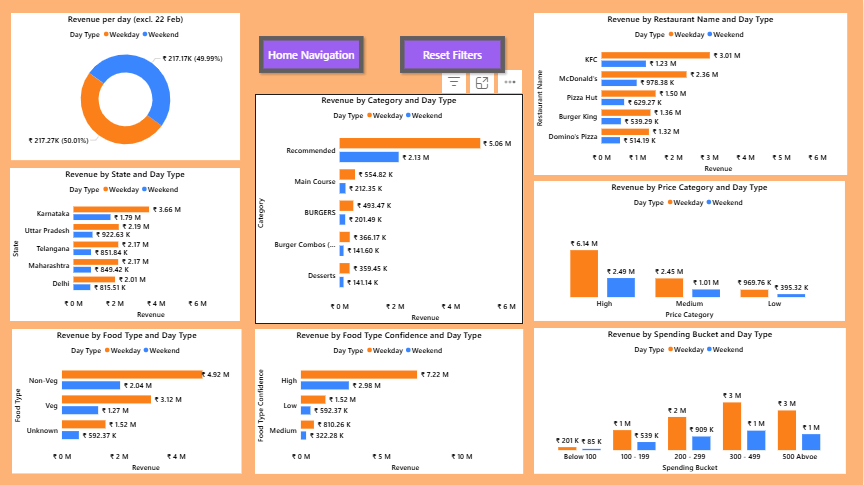

Layout of this report page (visuals, bound fields, positions):
{"tool":"powerbi","page":{"name":"Week-Based Performance","canvas":[1920,1080],"ordinal":6},"visuals":[{"type":"donutChart","title":"Revenue per day (excl. 22 Feb)","fields":{"Category":["dim_date.Day_Type"],"Y":["fact_swiggy_orders.Revenue per Day"]},"box":[26.7,28.9,508.9,326.7],"z":0},{"type":"clusteredBarChart","title":"Revenue by Restaurant Name and Day Type","fields":{"Series":["dim_date.Day_Type"],"Category":["dim_restaurant.Restaurant_Name"],"Y":["fact_swiggy_orders.Total Revenue"]},"box":[1188.9,28.9,695.6,360],"z":1000},{"type":"clusteredBarChart","title":"Revenue by State and Day Type","fields":{"Series":["dim_date.Day_Type"],"Y":["fact_swiggy_orders.Total Revenue"],"Category":["dim_location.State"]},"box":[24.4,373.3,511.1,340],"z":2000},{"type":"clusteredBarChart","title":"Revenue by Food Type and Day Type","fields":{"Series":["dim_date.Day_Type"],"Y":["fact_swiggy_orders.Total Revenue"],"Category":["dim_dish.Food_Type"]},"box":[27.9,731.1,509.8,321.3],"z":3000},{"type":"clusteredBarChart","title":"Revenue by Category and Day Type","fields":{"Series":["dim_date.Day_Type"],"Y":["fact_swiggy_orders.Total Revenue"],"Category":["dim_category.Category"]},"box":[568.9,208.9,595.6,511.1],"z":4000},{"type":"clusteredBarChart","title":"Revenue by Food Type Confidence and Day Type","fields":{"Series":["dim_date.Day_Type"],"Y":["fact_swiggy_orders.Total Revenue"],"Category":["dim_dish.Food_Type_Confidence"]},"box":[568.9,731.1,595.6,322.2],"z":5000},{"type":"clusteredColumnChart","title":"Revenue by Spending Bucket and Day Type","fields":{"Category":["fact_swiggy_orders.Spending Bucket"],"Series":["dim_date.Day_Type"],"Y":["fact_swiggy_orders.Total Revenue"]},"box":[1188.9,728.9,693.3,324.4],"z":6000},{"type":"clusteredColumnChart","title":"Revenue by Price Category and Day Type","fields":{"Series":["dim_date.Day_Type"],"Y":["fact_swiggy_orders.Total Revenue"],"Category":["fact_swiggy_orders.Price_Category"]},"box":[1188.9,402.2,691.1,311.1],"z":7000},{"type":"actionButton","box":[568.9,71.1,250,100],"z":13000},{"type":"actionButton","box":[882.2,71.1,251.1,100],"z":14000}]}

Visuals, with their boxes in screenshot pixels (x1, y1, x2, y2), scaled from the page's 1920x1080 canvas onto the 864x485 screenshot:
"Revenue per day (excl. 22 Feb)" donutChart: <region>12, 13, 241, 160</region>
"Revenue by Restaurant Name and Day Type" clusteredBarChart: <region>535, 13, 848, 175</region>
"Revenue by State and Day Type" clusteredBarChart: <region>11, 168, 241, 320</region>
"Revenue by Food Type and Day Type" clusteredBarChart: <region>13, 328, 242, 473</region>
"Revenue by Category and Day Type" clusteredBarChart: <region>256, 94, 524, 323</region>
"Revenue by Food Type Confidence and Day Type" clusteredBarChart: <region>256, 328, 524, 473</region>
"Revenue by Spending Bucket and Day Type" clusteredColumnChart: <region>535, 327, 847, 473</region>
"Revenue by Price Category and Day Type" clusteredColumnChart: <region>535, 181, 846, 320</region>
actionButton: <region>256, 32, 369, 77</region>
actionButton: <region>397, 32, 510, 77</region>
